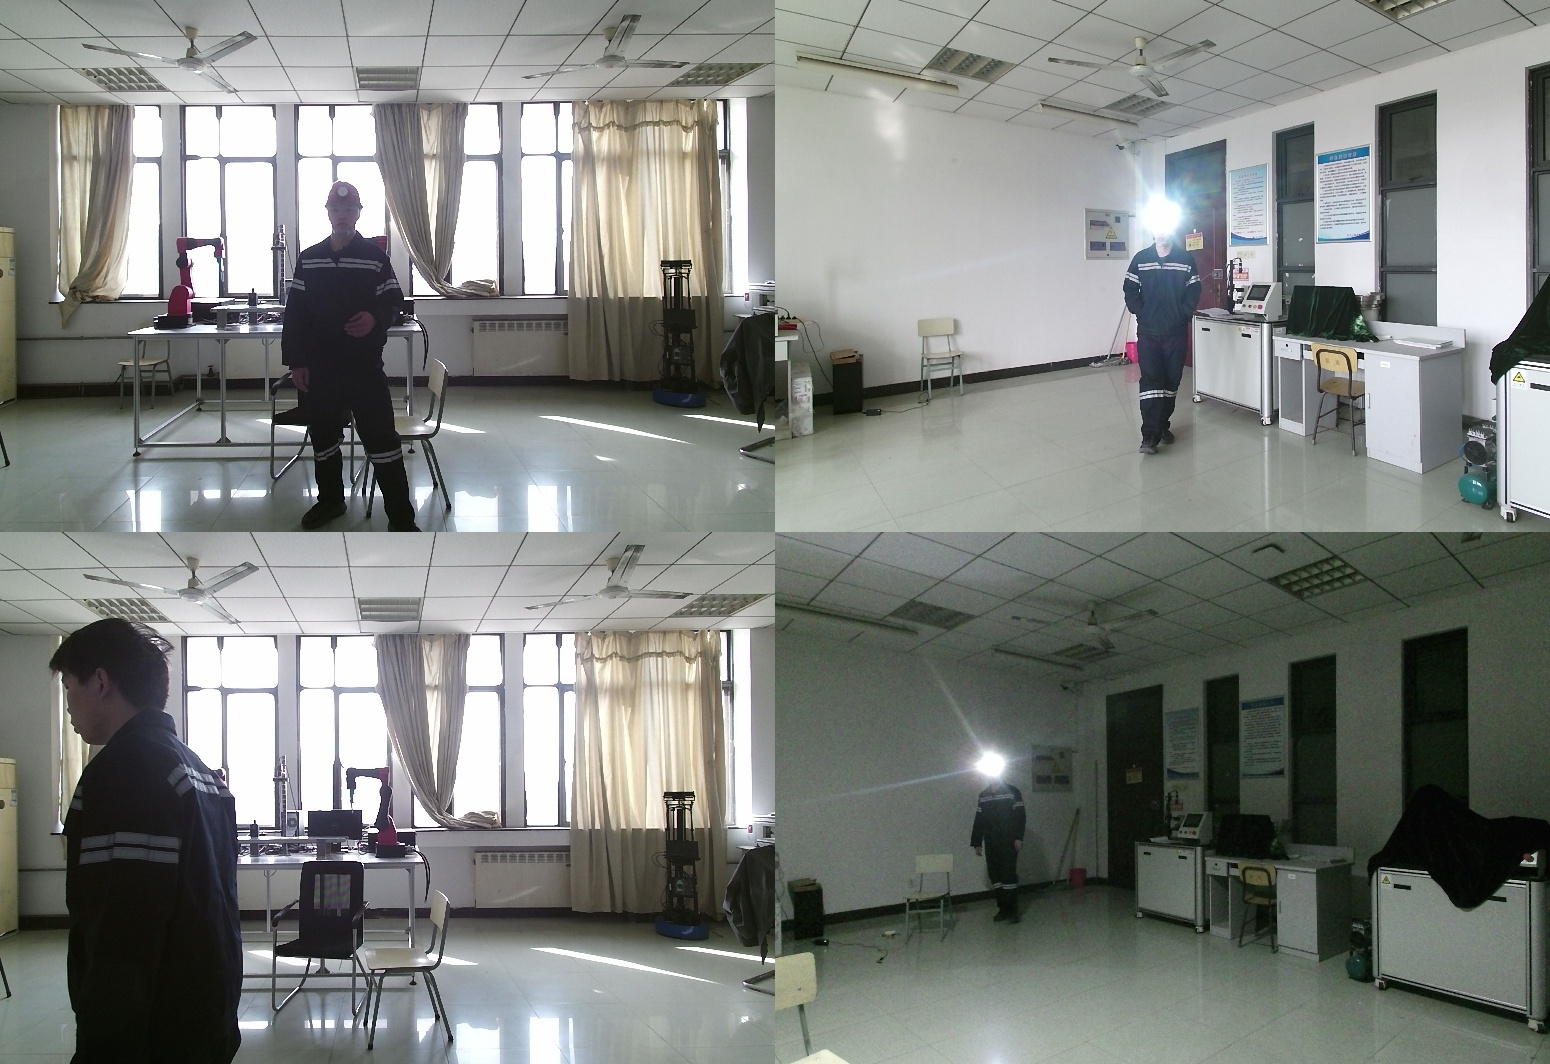person: (44, 617, 254, 1064), (283, 182, 417, 532), (1125, 217, 1210, 452), (969, 758, 1037, 928)
